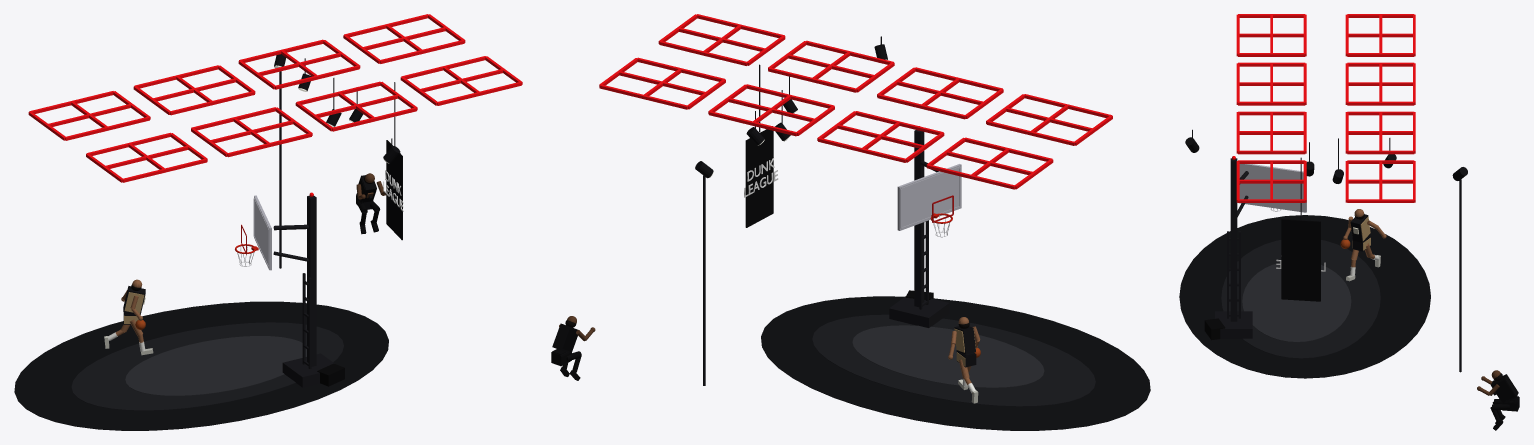
3 views of the same model, side by side, from view 1: azimuth 30°, elevation 25°; view 2: azimuth 150°, elevation 25°; view 3: azimuth 270°, elevation 25° (orthographic). The views are drawn at different scales.
Visible parts, largest first — view 1: pool_o, pool_m, pool_i, Mast, BannerCloth, MastBase, Backboard, L1_pole; view 2: pool_o, pool_m, pool_i, Backboard, BannerCloth, MastBase, Mast, L1_pole; view 3: pool_o, pool_m, pool_i, BannerCloth, Backboard, Mast, MastBase, L1_pole, EqBag, gf_d.002, gf_d.003, gf_d.004 (+1 smaller).
Part boxes in pixels (<box>): pool_o: <box>14,301,388,430</box>; pool_m: <box>71,322,343,410</box>; pool_i: <box>125,336,306,395</box>; Mast: <box>307,195,316,366</box>; BannerCloth: <box>386,140,402,240</box>; MastBase: <box>282,353,334,387</box>; Backboard: <box>254,195,271,270</box>; L1_pole: <box>279,71,281,268</box>; pool_o: <box>761,296,1150,430</box>; pool_m: <box>812,314,1095,406</box>; pool_i: <box>852,325,1044,387</box>; Backboard: <box>897,164,961,230</box>; BannerCloth: <box>745,126,773,227</box>; MastBase: <box>889,296,949,327</box>; Mast: <box>914,130,924,307</box>; L1_pole: <box>703,175,705,385</box>; pool_o: <box>1179,215,1430,378</box>; pool_m: <box>1221,240,1380,358</box>; pool_i: <box>1242,262,1351,342</box>; BannerCloth: <box>1281,219,1320,301</box>; Backboard: <box>1237,164,1306,212</box>; Mast: <box>1230,158,1237,321</box>; MastBase: <box>1215,311,1252,338</box>; L1_pole: <box>1459,179,1461,372</box>; EqBag: <box>1204,318,1225,340</box>; gf_d.002: <box>1238,101,1305,105</box>; gf_d.003: <box>1347,101,1414,105</box>; gf_d.004: <box>1238,150,1305,154</box>.
Size of what is drawn, in the model's own units: 12.09 by 6.18 by 8.11.
